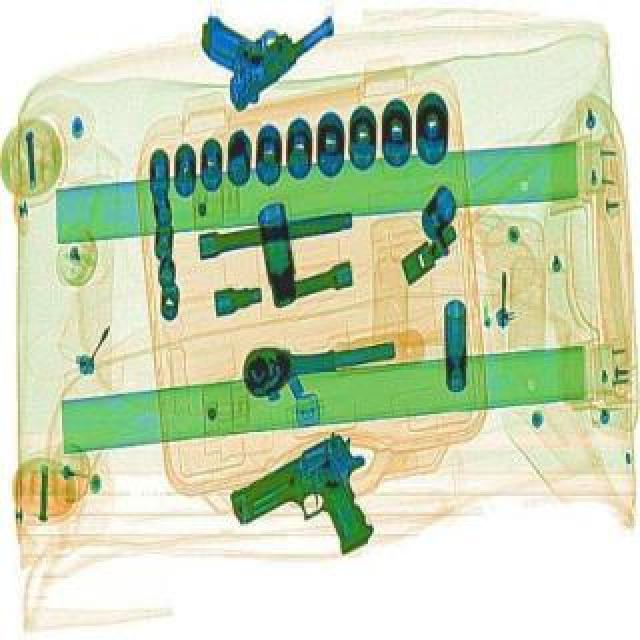gun: (220, 422, 404, 582), (196, 0, 344, 108)
